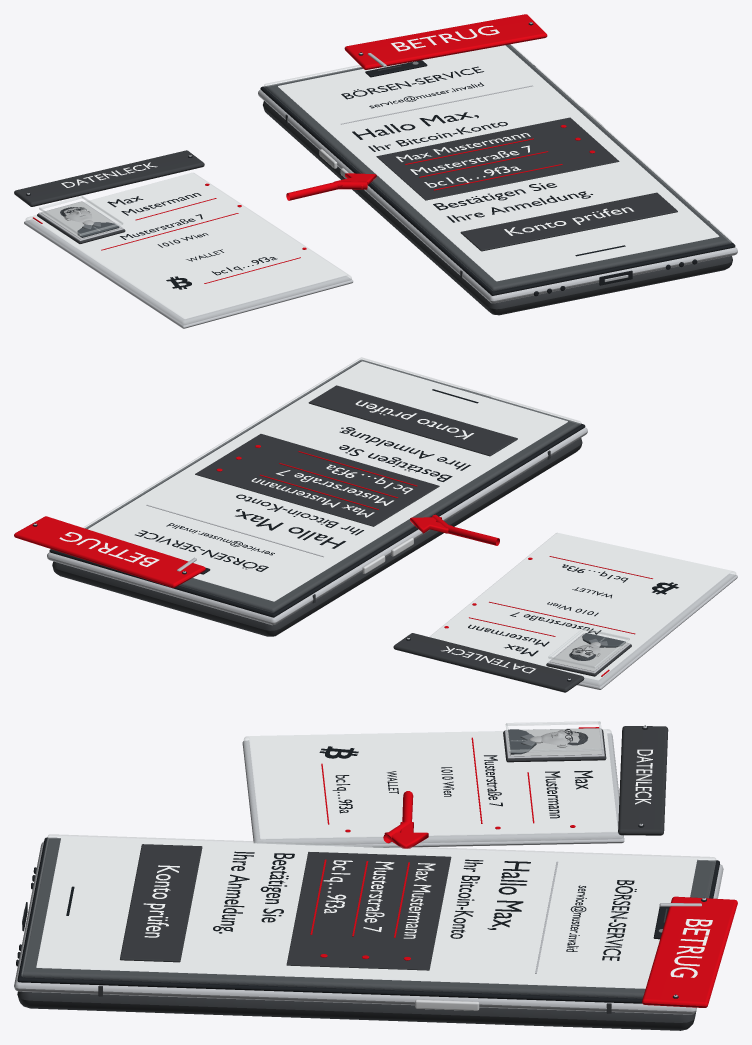
File: personalized-fraud.glb
3 renders of one model, top to bottom at view 1: azimuth 30°, elevation 25°; view 2: azimuth 150°, elevation 25°; view 3: azimuth 270°, elevation 25°, orthographic. The views are drawn at different scales.
Visible parts, largest first — view 1: Fraud phone / high-contrast message display, Stolen source profile / readable optical personal record / o (×2), Fraud phone / three stolen facts presented as trusted custom, Fraud phone / black perimeter dielectric gasket, Fraud phone / optical cover-glass edge, Fraud phone / graphite rear unibody, Physical caption / graphite or warning metal.001, Fraud phone / inert modeled account-check button, Physical caption / graphite or warning metal, Fraud phone / precision titanium midframe, Stolen source profile / readable optical personal record / t, Passport portrait matte photo plane.002 (+3 smaller); view 2: Fraud phone / high-contrast message display, Stolen source profile / readable optical personal record / o (×2), Fraud phone / three stolen facts presented as trusted custom, Fraud phone / black perimeter dielectric gasket, Fraud phone / graphite rear unibody, Fraud phone / optical cover-glass edge, Physical caption / graphite or warning metal.001, Fraud phone / inert modeled account-check button, Fraud phone / precision titanium midframe, Physical caption / graphite or warning metal, Stolen source profile / readable optical personal record / t, Passport portrait matte photo plane.002 (+2 smaller); view 3: Fraud phone / high-contrast message display, Stolen source profile / readable optical personal record / o (×2), Fraud phone / three stolen facts presented as trusted custom, Fraud phone / black perimeter dielectric gasket, Fraud phone / graphite rear unibody, Fraud phone / optical cover-glass edge, Fraud phone / inert modeled account-check button, Fraud phone / precision titanium midframe, Physical caption / graphite or warning metal.001, Physical caption / graphite or warning metal, Stolen source profile / readable optical personal record / t, Passport portrait matte photo plane.002 (+12 smaller).
Boxes of the visible parts, x1,y1,x2,y2 form: Fraud phone / high-contrast message display: (278, 45, 719, 281); Stolen source profile / readable optical personal record / o (×2): (25, 172, 351, 324); Fraud phone / three stolen facts presented as trusted custom: (376, 117, 619, 200); Fraud phone / black perimeter dielectric gasket: (260, 44, 735, 295); Fraud phone / optical cover-glass edge: (264, 44, 731, 290); Fraud phone / graphite rear unibody: (263, 101, 732, 315); Physical caption / graphite or warning metal.001: (344, 14, 547, 69); Fraud phone / inert modeled account-check button: (460, 192, 677, 251); Physical caption / graphite or warning metal: (14, 150, 204, 206); Fraud phone / precision titanium midframe: (258, 89, 737, 303); Stolen source profile / readable optical personal record / t: (24, 219, 353, 328); Passport portrait matte photo plane.002: (41, 201, 120, 239); Fraud phone / high-contrast message display: (88, 361, 567, 601); Stolen source profile / readable optical personal record / o (×2): (430, 533, 735, 686); Fraud phone / three stolen facts presented as trusted custom: (195, 434, 439, 526); Fraud phone / black perimeter dielectric gasket: (49, 359, 585, 617); Fraud phone / graphite rear unibody: (52, 438, 582, 636); Fraud phone / optical cover-glass edge: (83, 357, 581, 612); Physical caption / graphite or warning metal.001: (14, 516, 205, 587); Fraud phone / inert modeled account-check button: (308, 385, 517, 456); Fraud phone / precision titanium midframe: (47, 427, 587, 625); Physical caption / graphite or warning metal: (393, 633, 584, 692); Stolen source profile / readable optical personal record / t: (577, 573, 737, 689); Passport portrait matte photo plane.002: (550, 634, 627, 671); Fraud phone / high-contrast message display: (36, 836, 697, 988); Stolen source profile / readable optical personal record / o (×2): (244, 729, 622, 844); Fraud phone / three stolen facts presented as trusted custom: (286, 852, 451, 970); Fraud phone / black perimeter dielectric gasket: (17, 837, 719, 1003); Fraud phone / graphite rear unibody: (17, 991, 696, 1030); Fraud phone / optical cover-glass edge: (21, 834, 715, 998); Fraud phone / inert modeled account-check button: (120, 844, 202, 962); Fraud phone / precision titanium midframe: (14, 841, 723, 1014); Physical caption / graphite or warning metal.001: (642, 896, 737, 1007); Physical caption / graphite or warning metal: (618, 726, 668, 835); Stolen source profile / readable optical personal record / t: (242, 733, 624, 847); Passport portrait matte photo plane.002: (507, 728, 601, 756).
Bounding box in the file's own units: 8.11 × 0.7684 × 7.5.
Materials: 6 (6 with a texture image).
